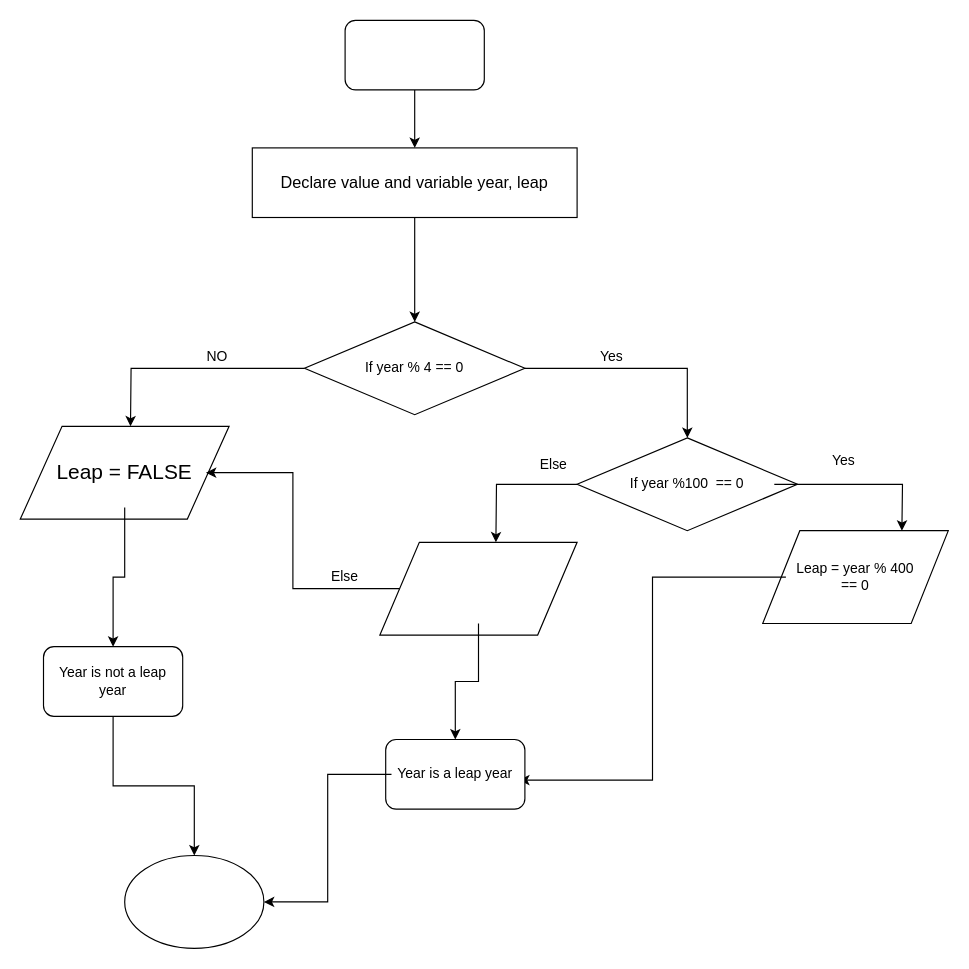
This 969x969 diagram has some shape labels left out. Here are the shapes that lost their labels. From the top down, the box of each, then its label:
(344, 19, 484, 90): Start
(379, 541, 577, 635): Leap = True
(124, 854, 264, 948): END
